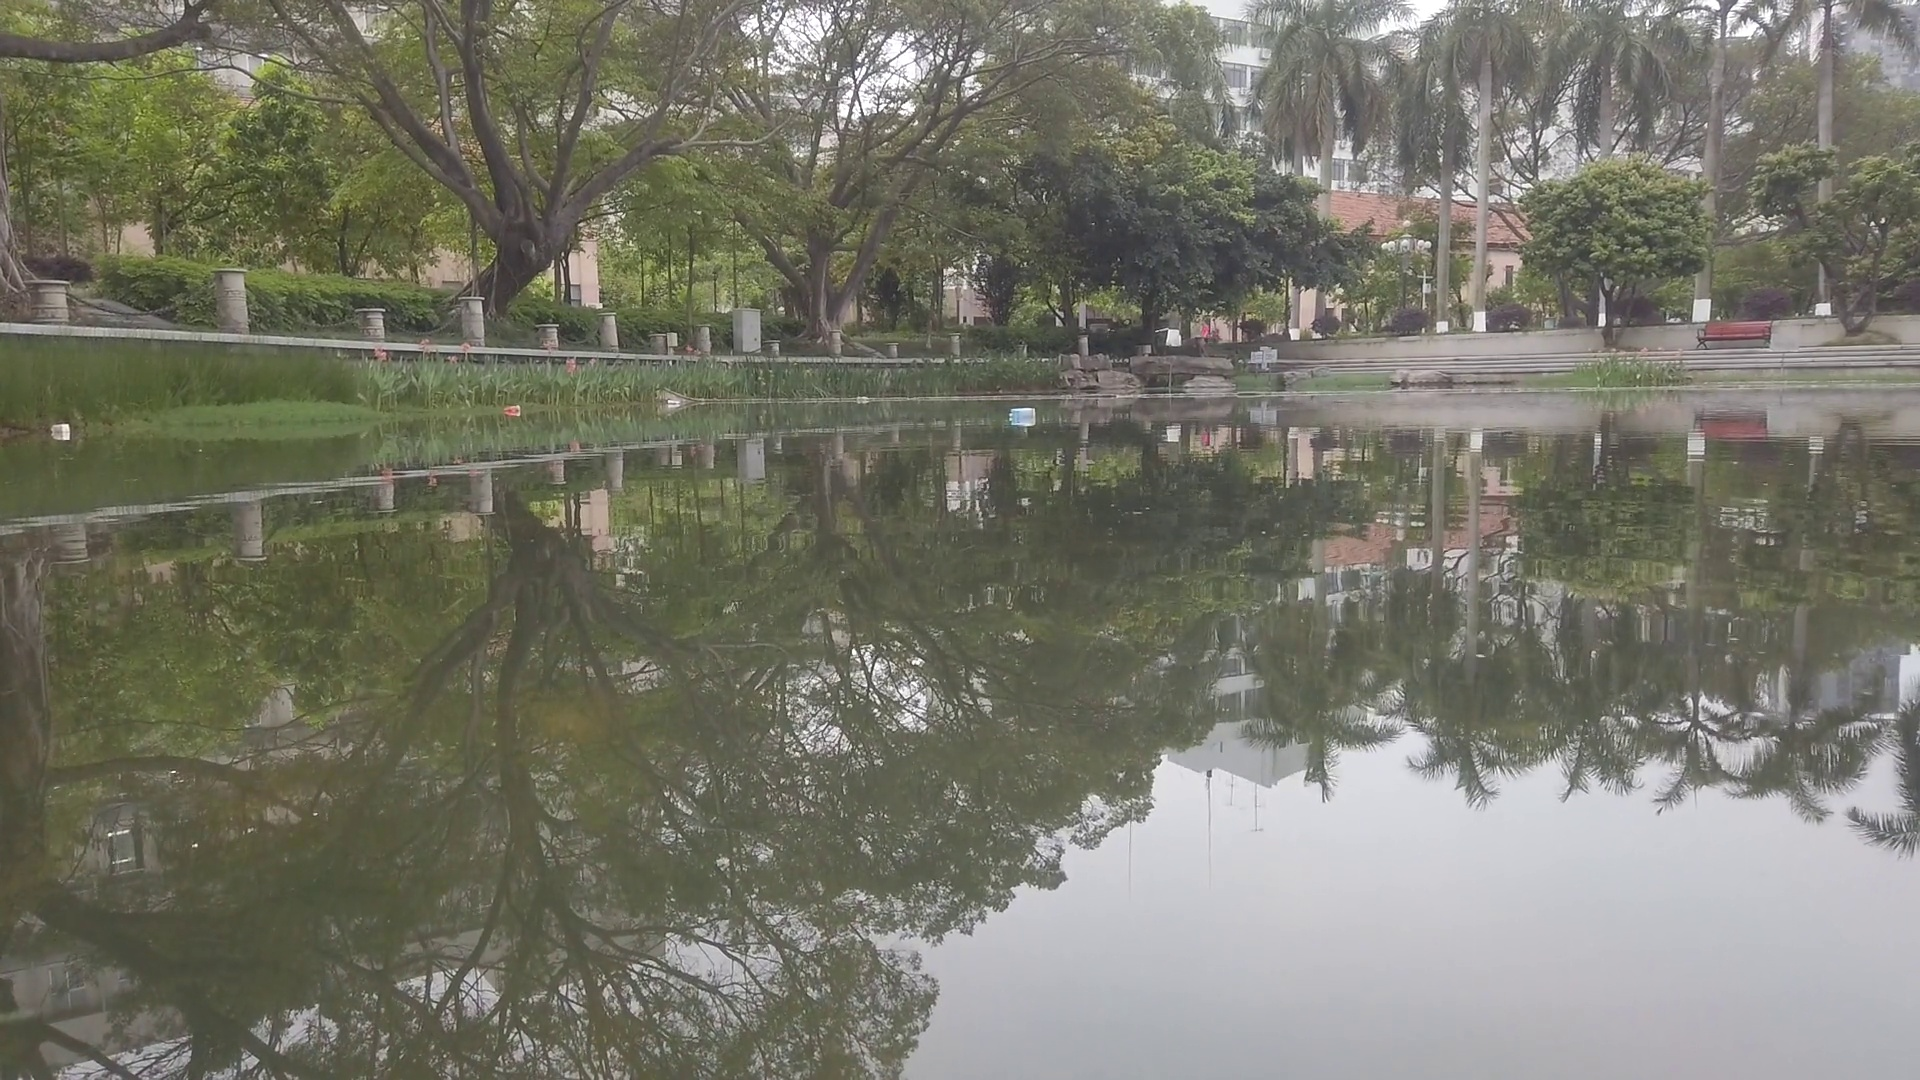bottle: (505, 406, 521, 415), (666, 397, 680, 406), (857, 396, 868, 401)
carton: (1010, 406, 1039, 426), (51, 423, 71, 434)
